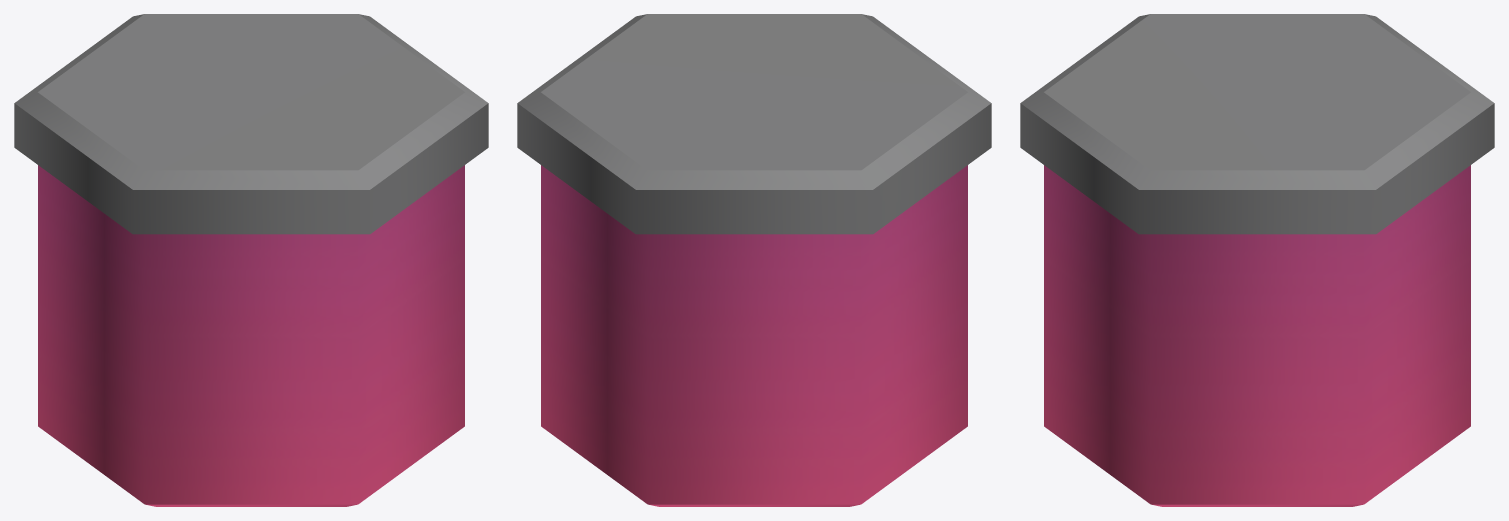
File: Jar_2_J.glb
3 renders of one model, left to right at view 1: azimuth 30°, elevation 25°; view 2: azimuth 150°, elevation 25°; view 3: azimuth 270°, elevation 25°, orthographic.
Parts seen in each view (by area): view 1: Jar_2_J; view 2: Jar_2_J; view 3: Jar_2_J.
Part boxes in pixels (<box>): Jar_2_J: <box>14,14,488,506</box>; Jar_2_J: <box>517,14,991,506</box>; Jar_2_J: <box>1020,14,1494,506</box>.
Size of the model in its own units: 0.1799 by 0.1669 by 0.2077.
1 material, 1 textured.
